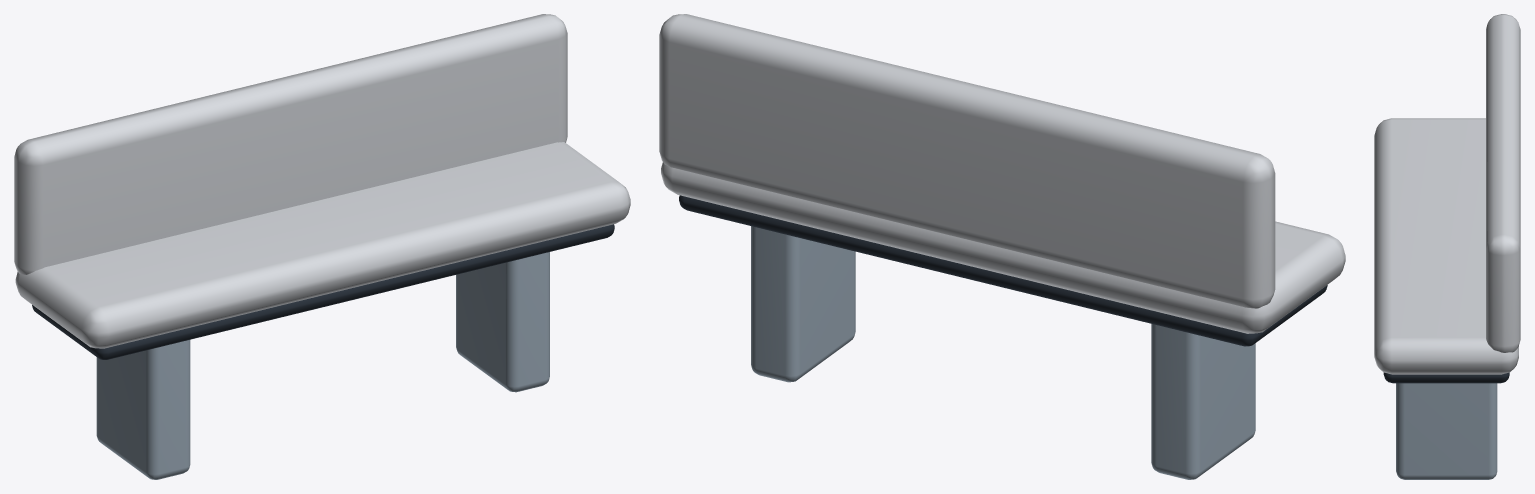
Rendered from CampusBench.glb.
3 views of the same model, side by side, from view 1: azimuth 30°, elevation 25°; view 2: azimuth 150°, elevation 25°; view 3: azimuth 270°, elevation 25° (orthographic). The views are drawn at different scales.
Visible parts, largest first — view 1: Back, Seat, Support, Support.001, SeatUnderlay; view 2: Back, Seat, Support, Support.001, SeatUnderlay; view 3: Seat, Back, Support.001, SeatUnderlay.
Part boxes in pixels (x1,y1,x2,y2): Back: (14, 14, 567, 274); Seat: (15, 142, 630, 348); Support: (96, 340, 190, 479); Support.001: (456, 252, 549, 392); SeatUnderlay: (32, 224, 614, 359); Back: (659, 14, 1275, 308); Seat: (661, 162, 1345, 333); Support: (1151, 324, 1255, 479); Support.001: (751, 226, 855, 382); SeatUnderlay: (679, 195, 1327, 346); Seat: (1374, 118, 1518, 374); Back: (1486, 14, 1520, 352); Support.001: (1396, 383, 1497, 479); SeatUnderlay: (1383, 372, 1509, 383).
Size of the model in its own units: 3.8 by 2.08 by 1.01.
